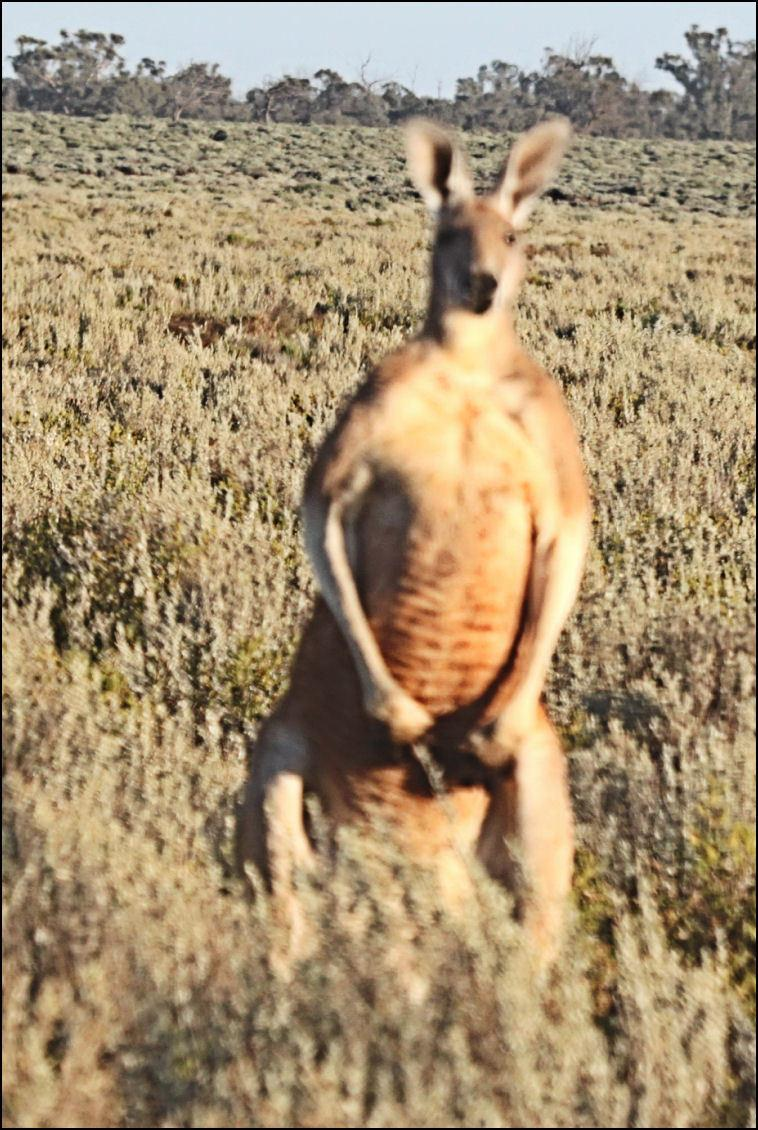Red kangaroo: (242, 118, 590, 954)
